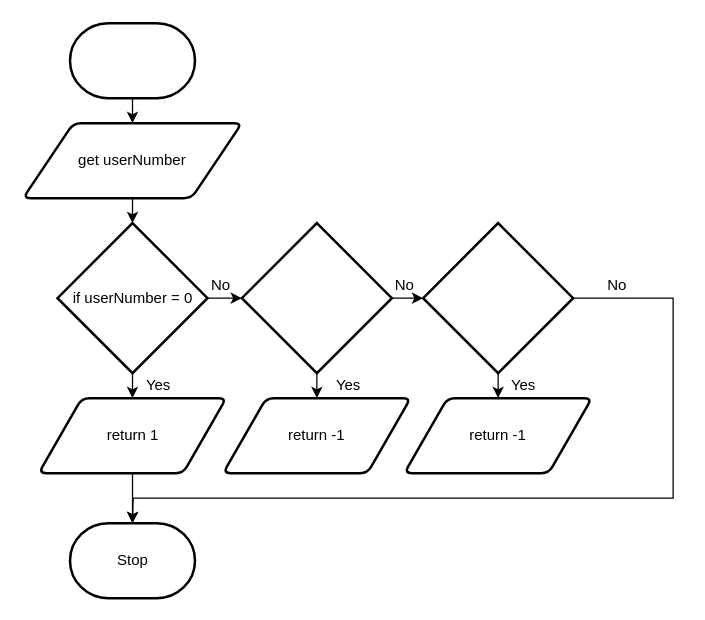
The diagram is 705 pixels wide and 620 high, and some of its shapes have lost their labels. The centre of each missing label's shape, as x and y in pixels:
"else if isNaN(userNumber)" belongs at pixel 497 297.
"else if userNumber < 0" belongs at pixel 316 297.
"Start" belongs at pixel 132 60.
